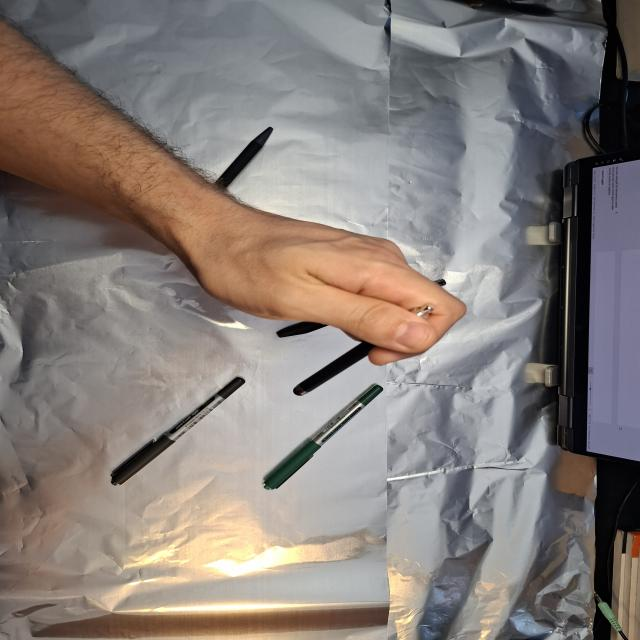glove_off: (162, 198, 470, 368)
